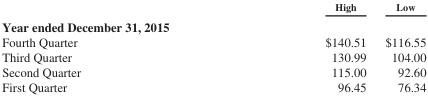table: (1, 1, 425, 94)
table column: (1, 1, 202, 94), (202, 1, 374, 94), (374, 1, 425, 94)
table column header: (1, 1, 425, 15)
table projected row header: (1, 15, 425, 33)
table row: (1, 15, 425, 33), (1, 33, 425, 49), (1, 49, 425, 64), (1, 64, 425, 79), (1, 79, 425, 94), (1, 1, 425, 15)
